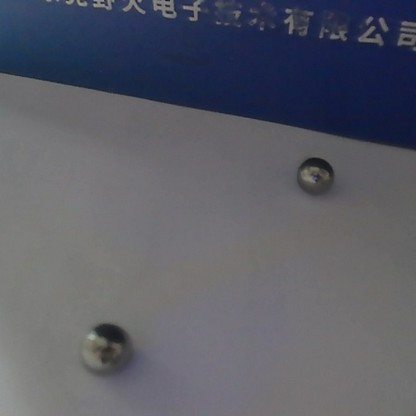ironball: (74, 323, 134, 375), (294, 155, 337, 196)
